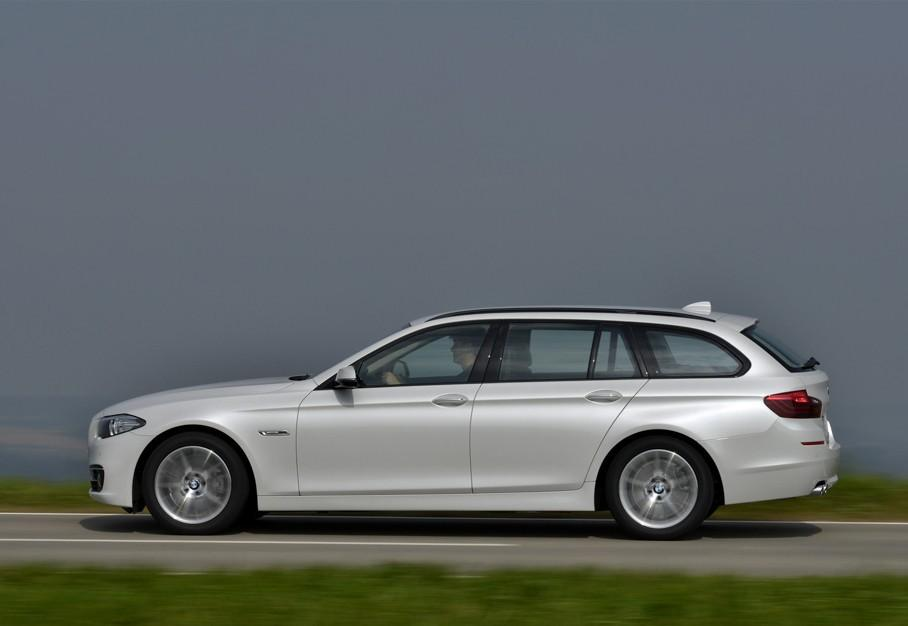Wagon: (87, 298, 843, 537)
